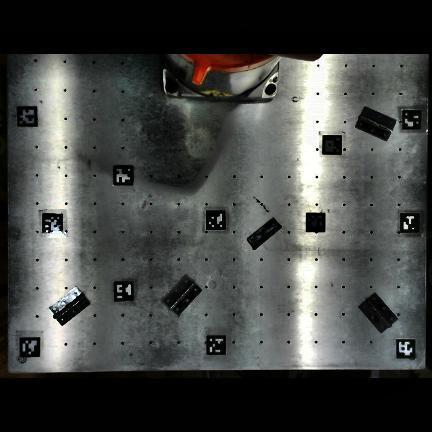hinge: (49, 286, 89, 324), (360, 293, 397, 331), (164, 276, 201, 314), (356, 106, 396, 140), (248, 218, 281, 248)
marker: (17, 107, 38, 128), (400, 213, 420, 234), (42, 214, 62, 234), (113, 166, 133, 186), (114, 282, 134, 302), (206, 337, 226, 357), (403, 111, 422, 132), (206, 210, 225, 231), (20, 338, 40, 357), (396, 339, 415, 359), (306, 213, 325, 232), (323, 136, 342, 154)
